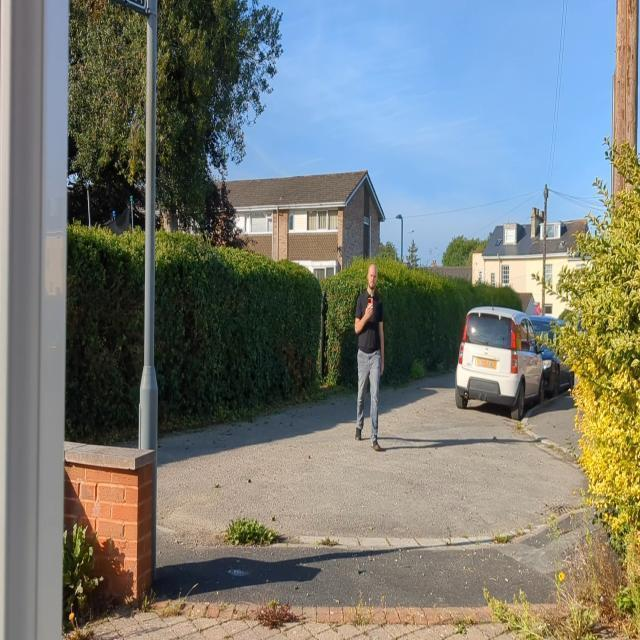lens: (368, 299, 371, 303)
phone: (368, 299, 373, 309)
